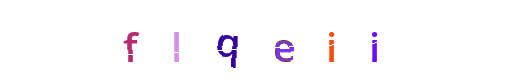E: (225, 0, 305, 80)
F: (130, 0, 210, 80)
I: (270, 0, 350, 80), (291, 0, 371, 80)
L: (157, 0, 237, 80)
Q: (188, 0, 268, 80)
